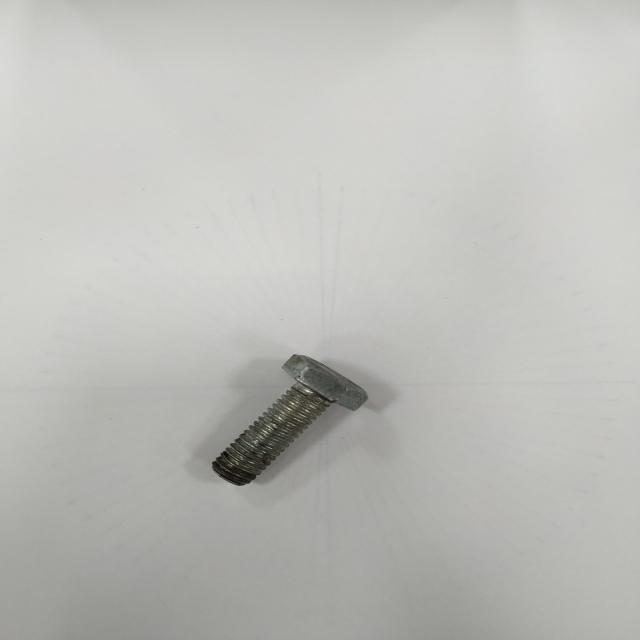Bolt: (213, 355, 368, 485)
